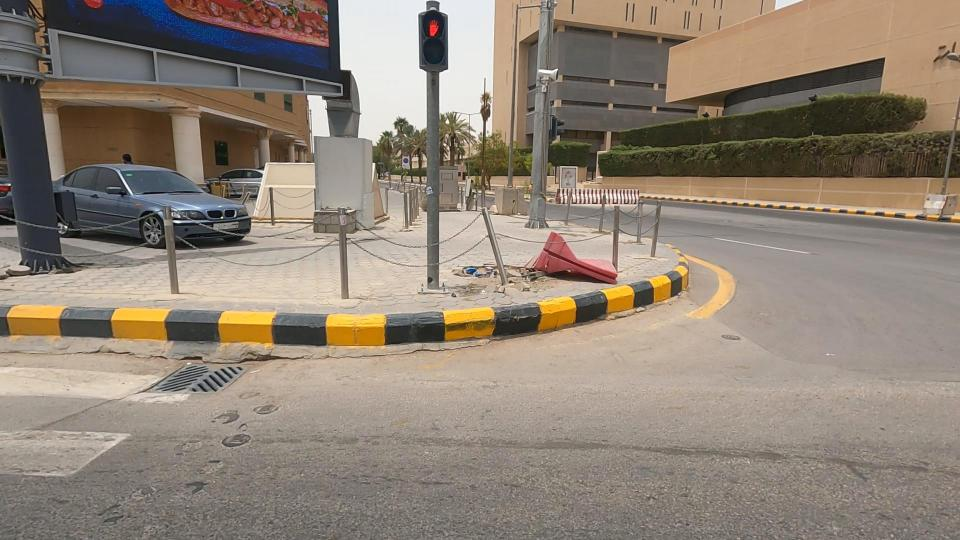GARBAGE: (388, 219, 586, 317)
